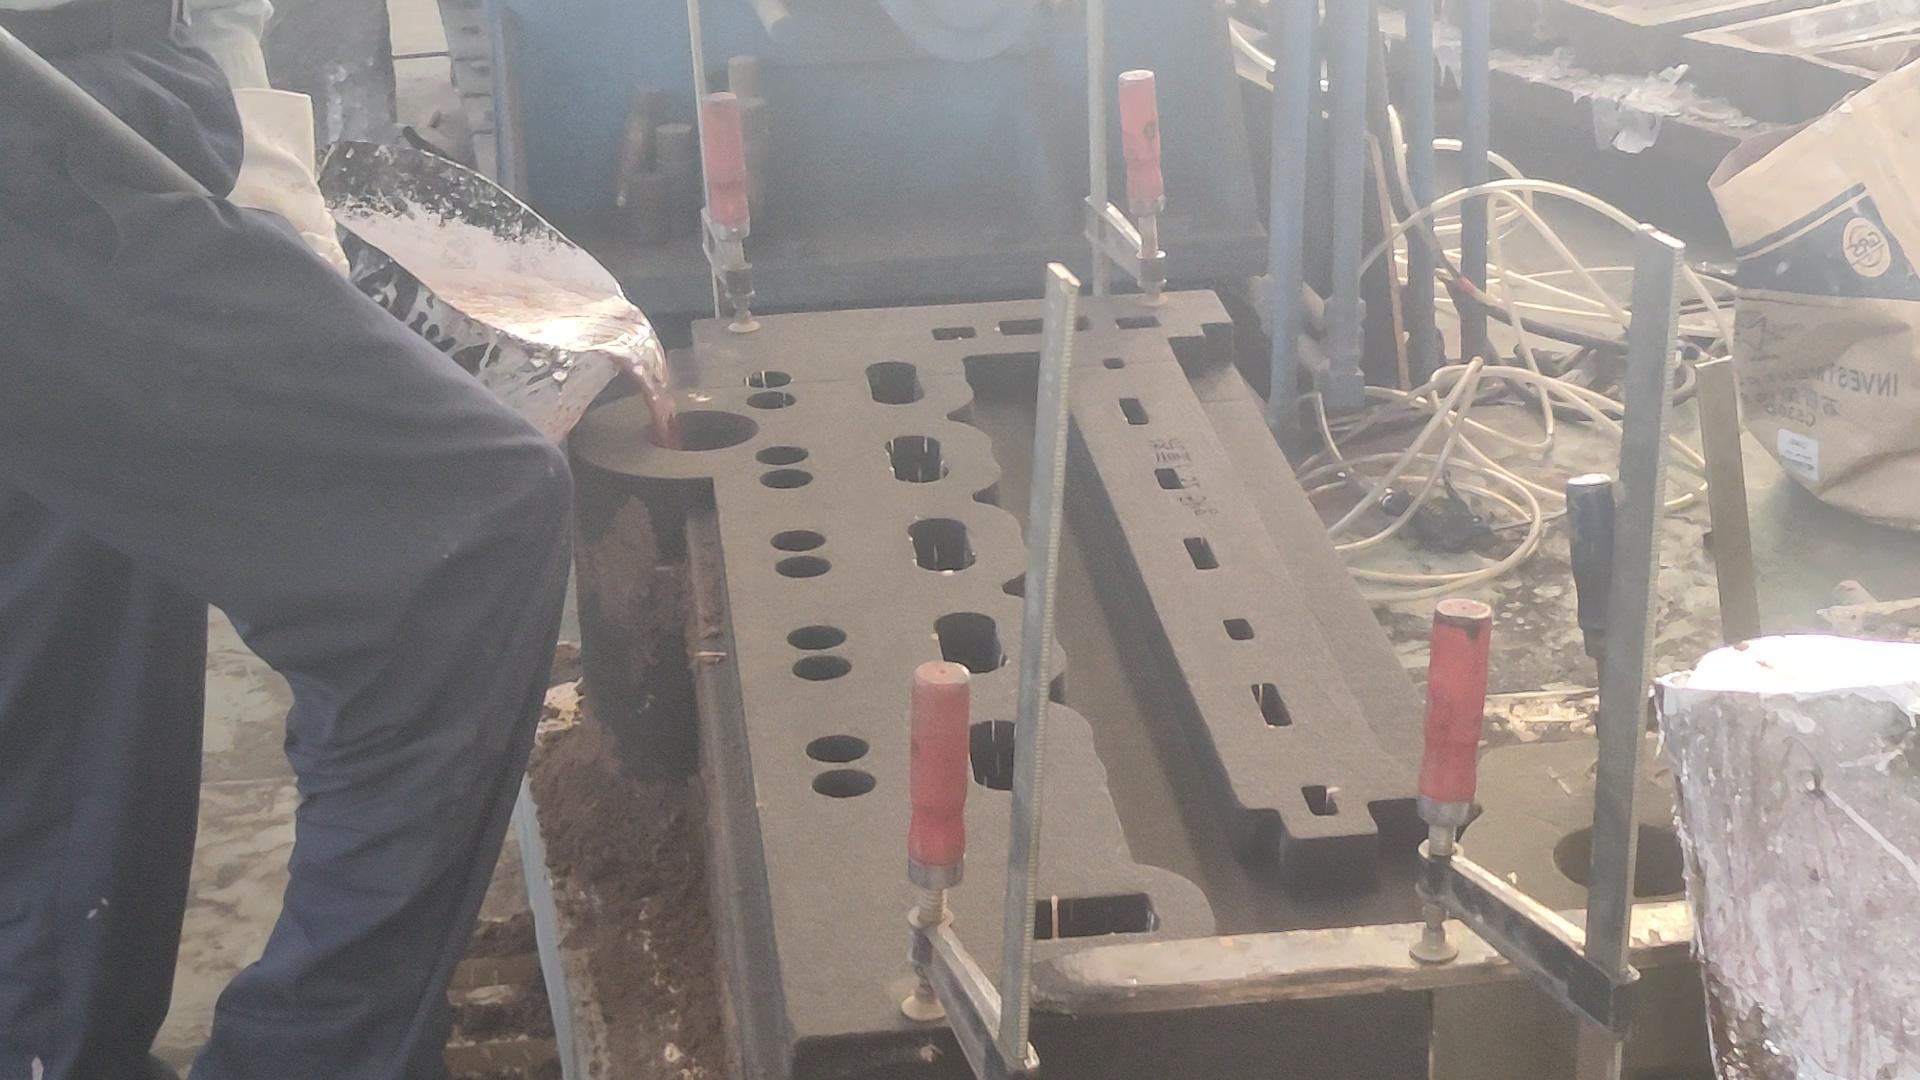pouring hole: (1553, 819, 1702, 897), (638, 409, 762, 451)
